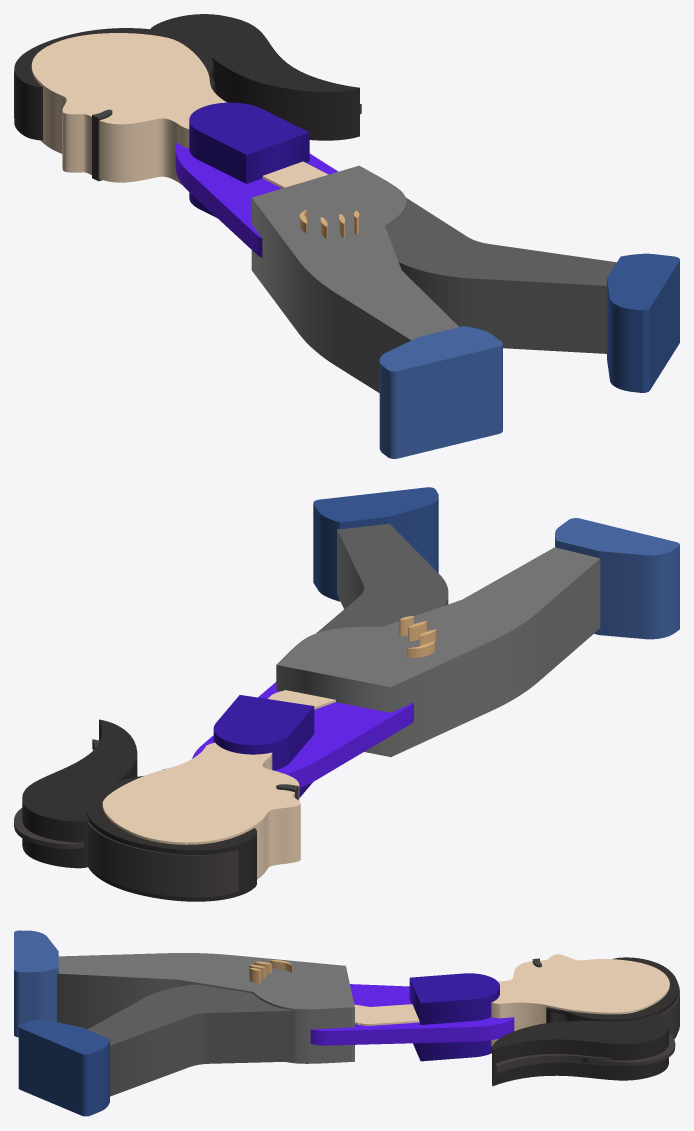
File: emoji_u1f6b6_1f3fb_200d_2640.glb
3 renders of one model, top to bottom at view 1: azimuth 30°, elevation 25°; view 2: azimuth 150°, elevation 25°; view 3: azimuth 270°, elevation 25°, orthographic. The views are drawn at different scales.
Visible parts, largest first — view 1: emoji_u1f6b6_1f3fb_200d_2640; view 2: emoji_u1f6b6_1f3fb_200d_2640; view 3: emoji_u1f6b6_1f3fb_200d_2640.
Boxes of the visible parts, bbox=[...] form: emoji_u1f6b6_1f3fb_200d_2640: bbox=[14, 14, 679, 458]; emoji_u1f6b6_1f3fb_200d_2640: bbox=[14, 487, 679, 901]; emoji_u1f6b6_1f3fb_200d_2640: bbox=[14, 930, 679, 1116].
Size of the model in its own units: 0.0144 by 0.0044 by 0.0332.
